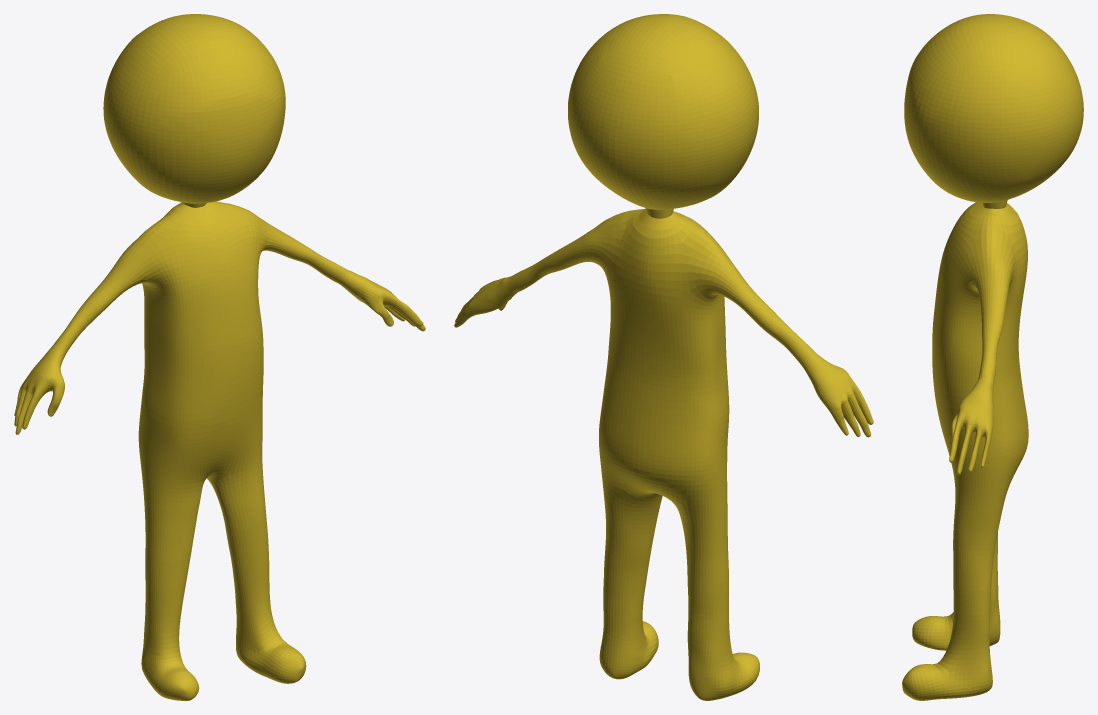
File: lmo.obj
3 renders of one model, left to right at view 1: azimuth 30°, elevation 25°; view 2: azimuth 150°, elevation 25°; view 3: azimuth 270°, elevation 25°, orthographic. The views are drawn at different scales.
Parts seen in each view (by area): view 1: Group1; view 2: Group1; view 3: Group1.
Boxes of the visible parts, x1,y1,x2,y2 form: Group1: (14,14,425,700); Group1: (454,14,873,700); Group1: (902,14,1083,700).
Size of the model in its own units: 3.99 by 6.12 by 1.56.
